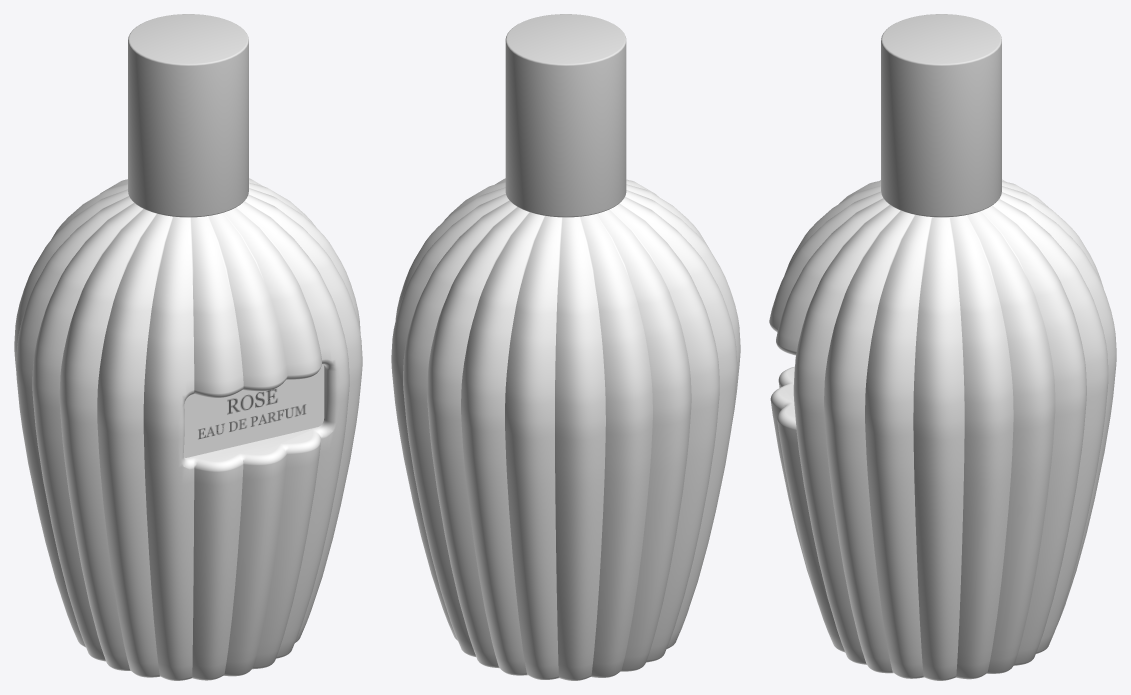
File: perfume_bottle.glb
The picture shows the model from 3 angles, left to right: view 1: azimuth 30°, elevation 25°; view 2: azimuth 150°, elevation 25°; view 3: azimuth 270°, elevation 25°; orthographic projection.
Parts seen in each view (by area): view 1: Mesh5_Color_A01_0, Mesh3_Color_E04_0, Mesh6_Color_A05_0; view 2: Mesh5_Color_A01_0, Mesh3_Color_E04_0; view 3: Mesh5_Color_A01_0, Mesh3_Color_E04_0.
Boxes of the visible parts, bbox=[...] form: Mesh5_Color_A01_0: bbox=[14, 178, 362, 680]; Mesh3_Color_E04_0: bbox=[128, 14, 248, 217]; Mesh6_Color_A05_0: bbox=[185, 371, 319, 452]; Mesh5_Color_A01_0: bbox=[391, 178, 740, 680]; Mesh3_Color_E04_0: bbox=[505, 14, 626, 217]; Mesh5_Color_A01_0: bbox=[769, 179, 1116, 680]; Mesh3_Color_E04_0: bbox=[881, 14, 1001, 217].
Bounding box in the file's own units: 5.79 × 10.89 × 5.74.
5 materials, 1 textured.
